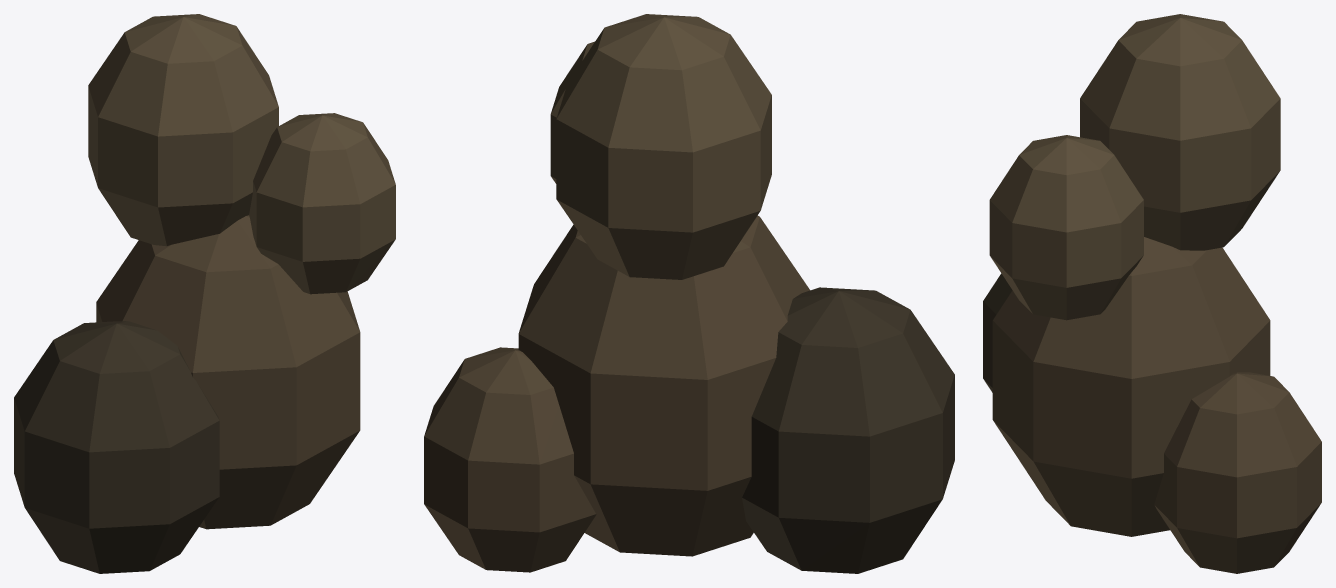
File: tree_pebblecactus_2.obj
3 renders of one model, left to right at view 1: azimuth 30°, elevation 25°; view 2: azimuth 150°, elevation 25°; view 3: azimuth 270°, elevation 25°, orthographic. The views are drawn at different scales.
Visible parts, largest first — view 1: tree_pebblecactus_2; view 2: tree_pebblecactus_2; view 3: tree_pebblecactus_2.
Part boxes in pixels (x1,y1,x2,y2): tree_pebblecactus_2: (14,14,395,573); tree_pebblecactus_2: (424,14,954,573); tree_pebblecactus_2: (983,14,1321,573).
Size of the model in its own units: 0.8216 by 1.02 by 0.6266.
